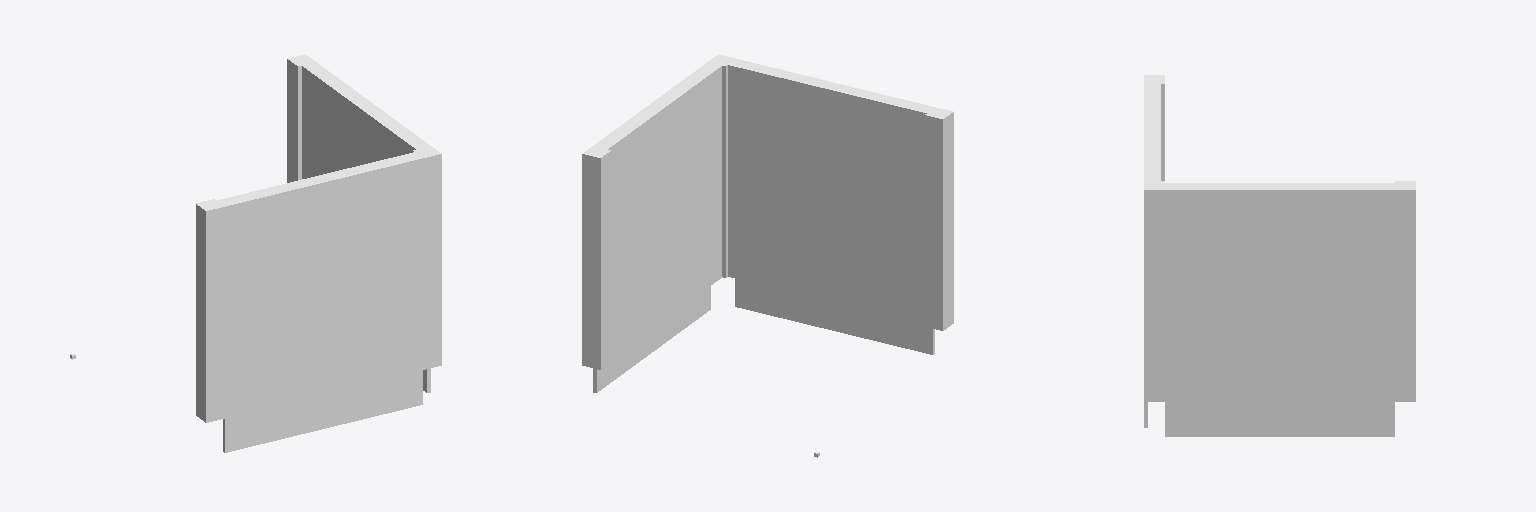
File: Wall-1001.obj
3 views of the same model, side by side, from view 1: azimuth 30°, elevation 25°; view 2: azimuth 150°, elevation 25°; view 3: azimuth 270°, elevation 25° (orthographic).
Size of the model in its own units: 64 by 64 by 64.